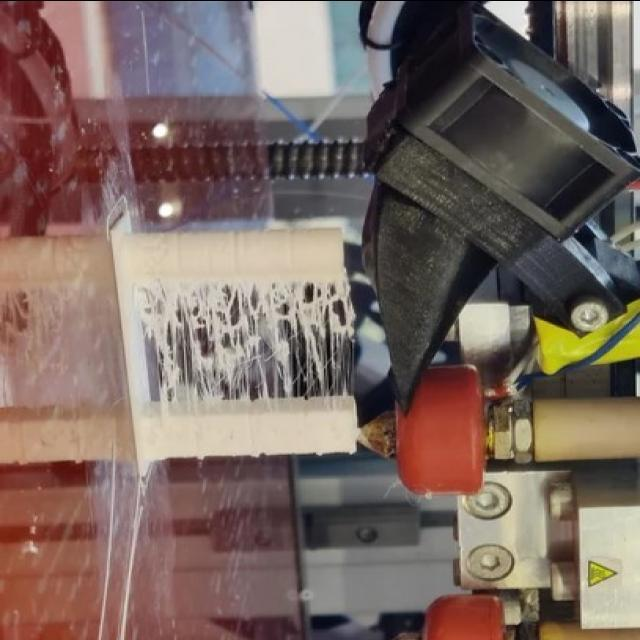Stringing: (196, 280, 281, 392), (280, 284, 350, 382), (144, 286, 208, 392)
